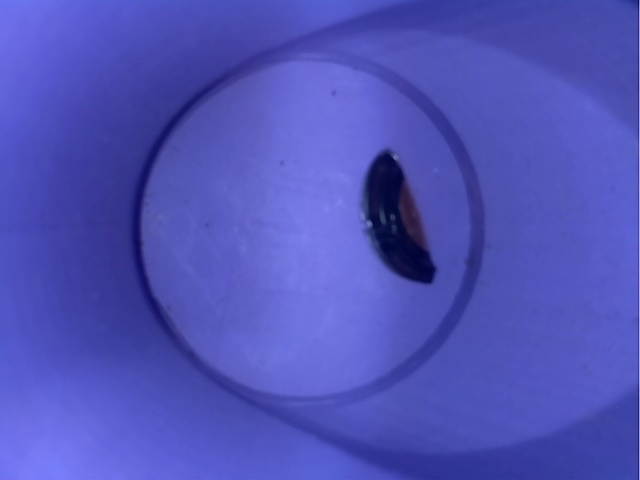capsule: (347, 135, 448, 293)
